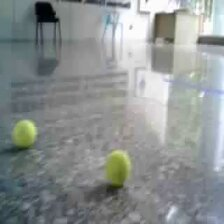tennis: (102, 150, 130, 186), (11, 118, 36, 148)
